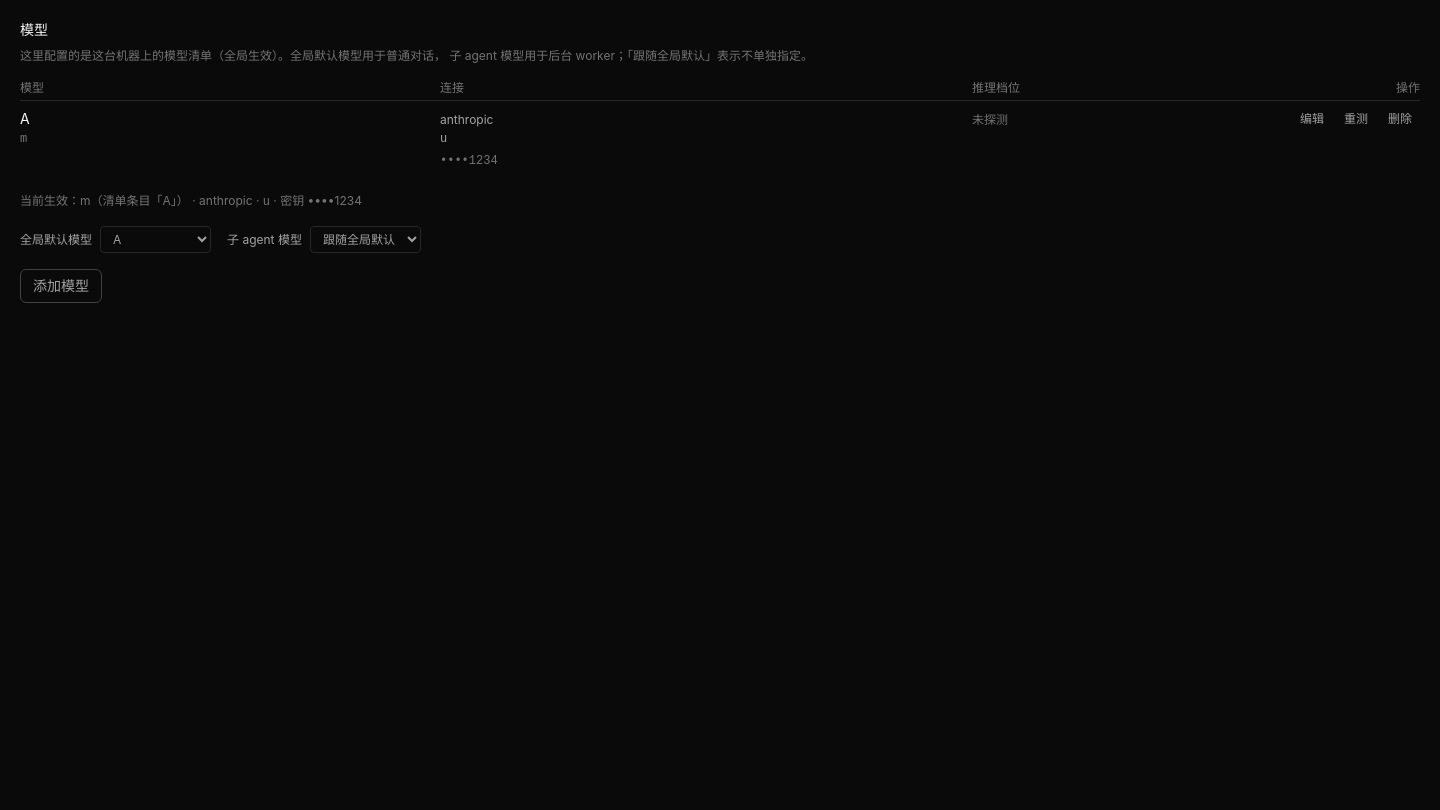
SettingsModelsTab › shows an inline error and keeps the input on failure
expect the text "••••1234" is shown: met, box 440,154 -> 498,168
Click the button "编辑": (1312, 119) 1292,109 -> 1332,129
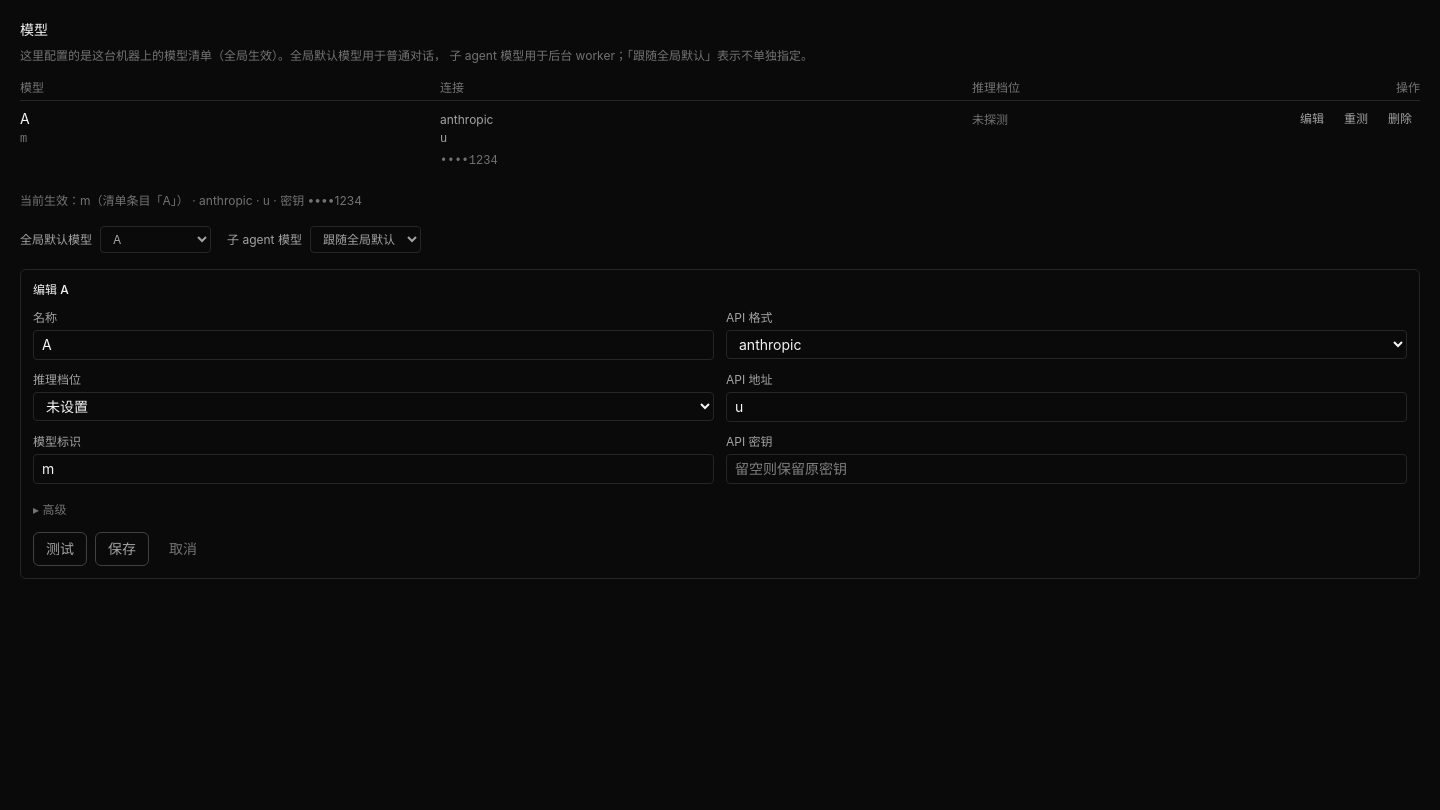
In the password field labelled "API 密钥": (1066, 469) 726,454 -> 1407,484, type "sk-typed"
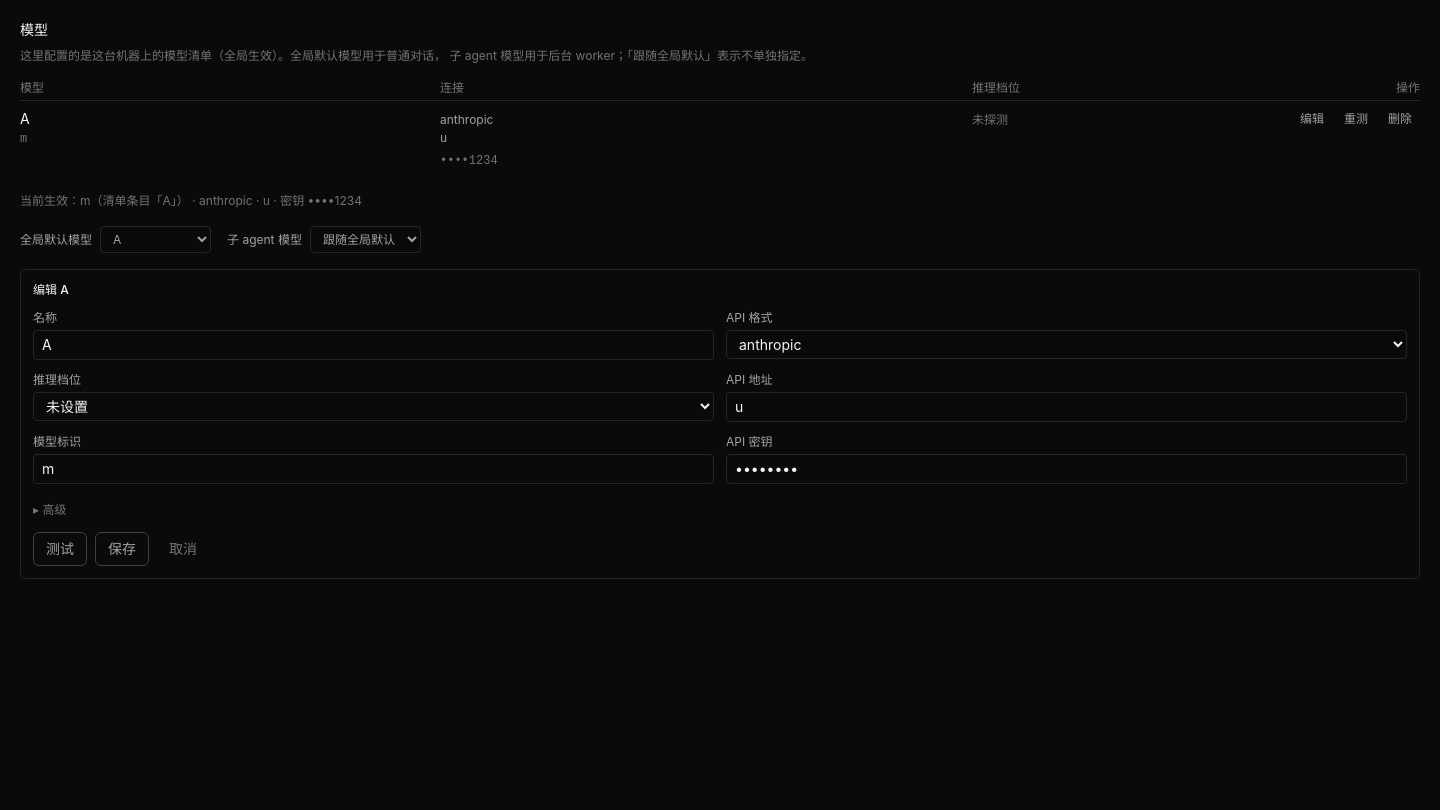
Click the button "保存": (122, 549) 95,532 -> 149,566
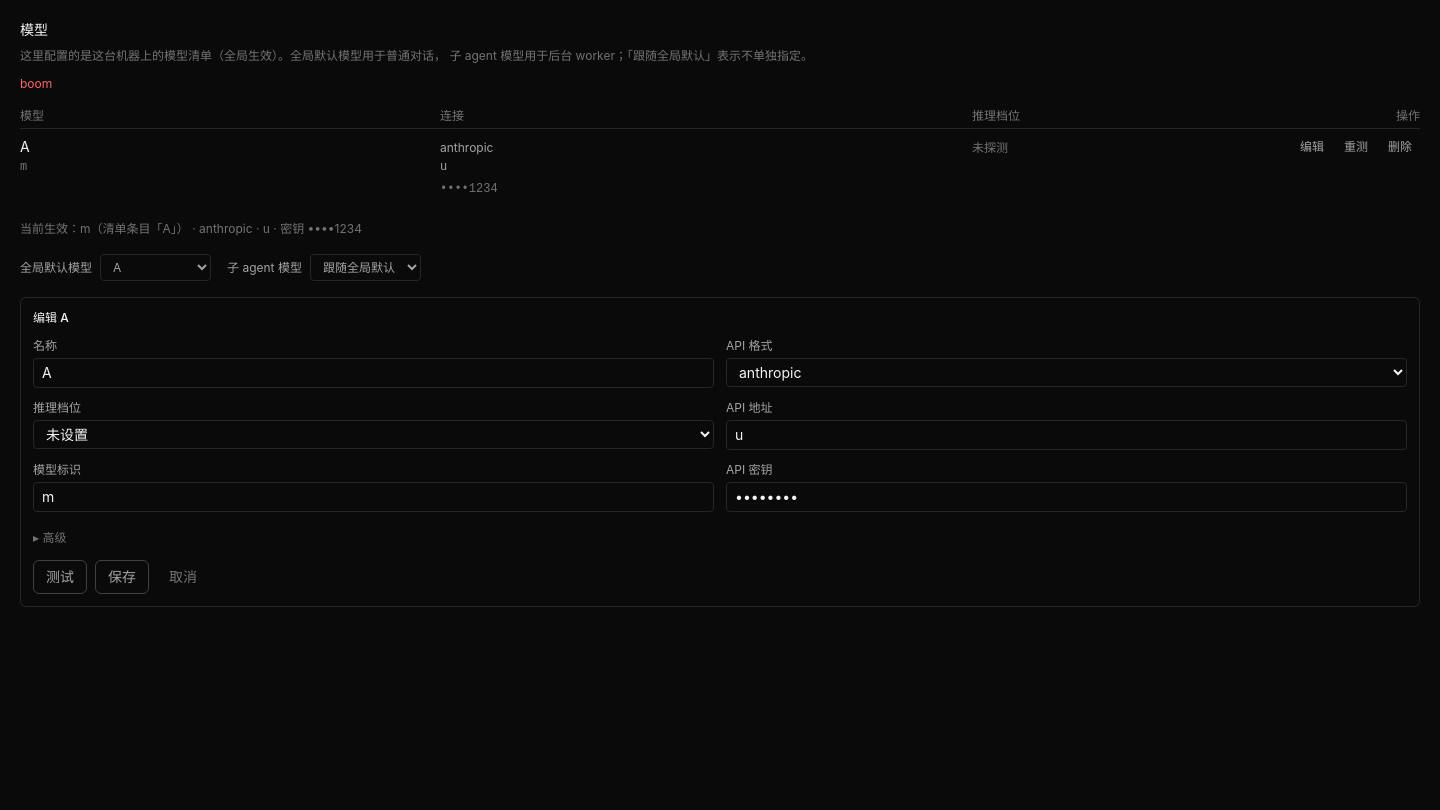
expect the message "boom" is shown: met, box 20,76 -> 52,91
